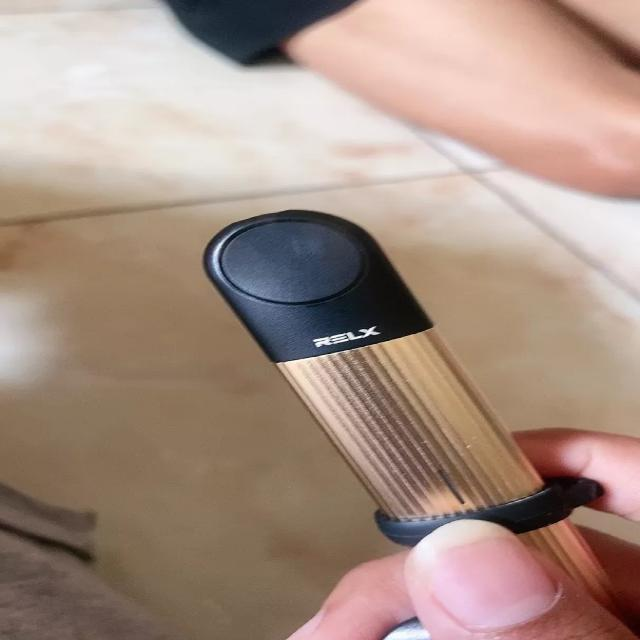Hazard: (197, 206, 640, 640)
